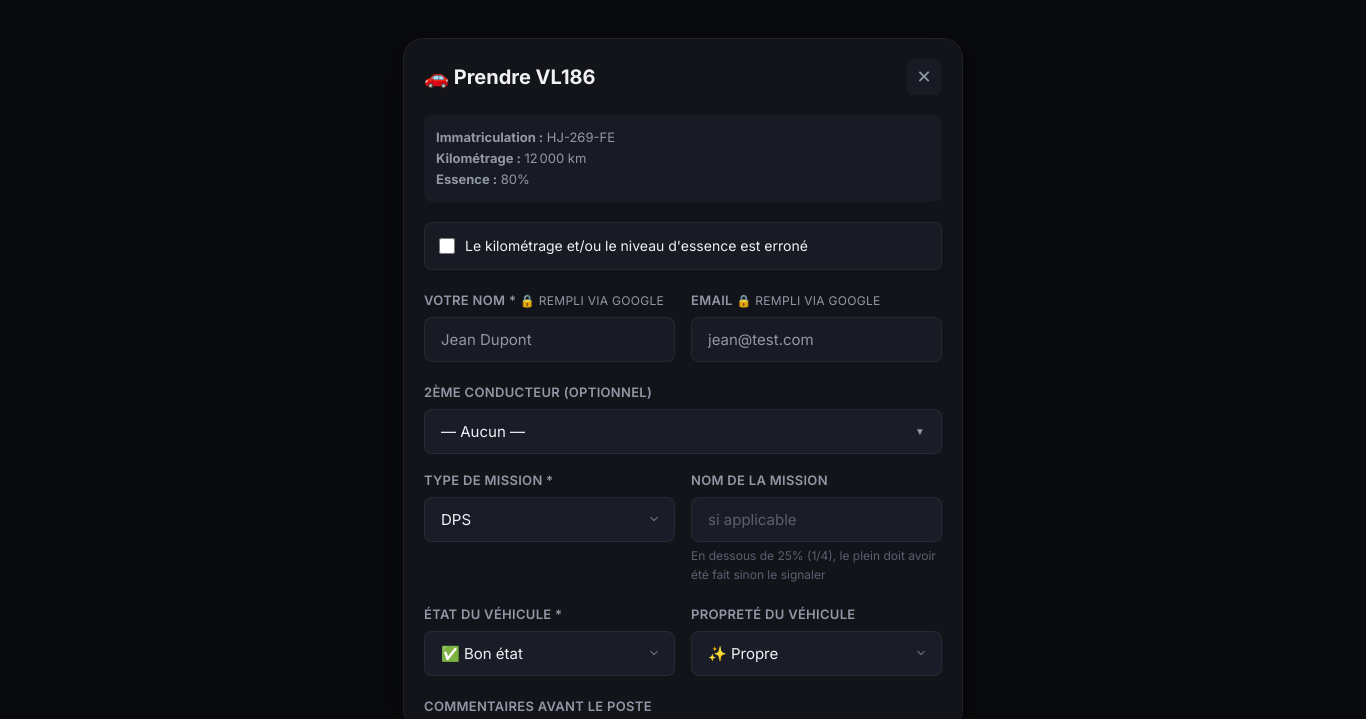
CheckOutModal › permet de saisir manuellement kilométrage/carburant corrigés
Expected: the field showing "Jean Dupont" is shown, [424, 317, 675, 362]
What coordinates should you click on to do the following:
click the checkbox
I would click on:
 (447, 246)
Its box is [439, 238, 455, 254].
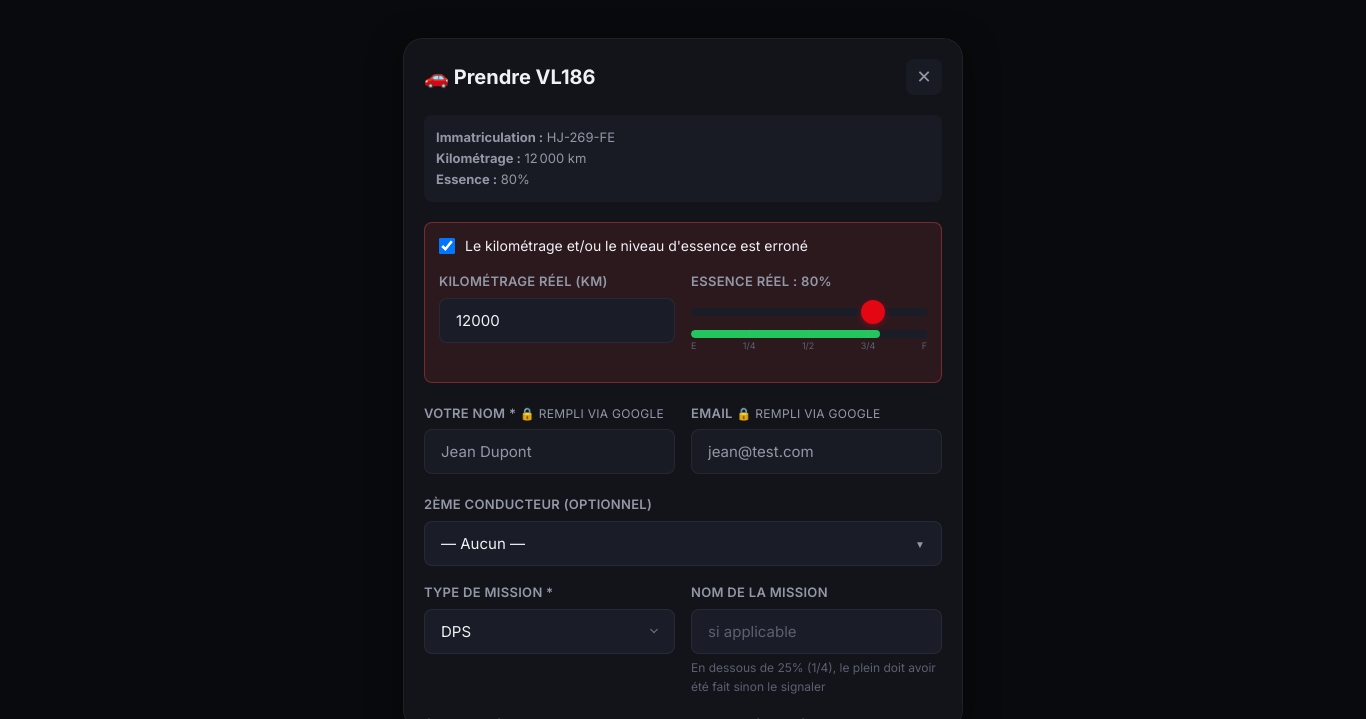
Now the number field labelled "Kilométrage réel (km)" is shown, box [439, 298, 675, 343]
